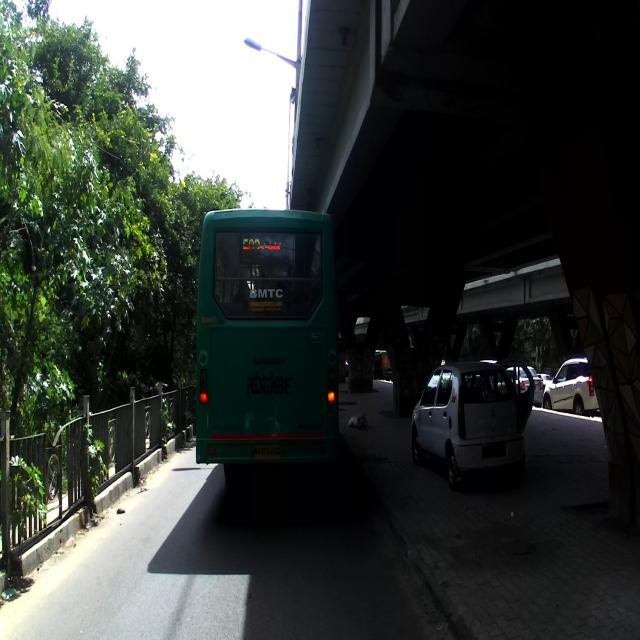Car_TATA: (408, 358, 535, 491)
bus: (194, 206, 341, 498)
